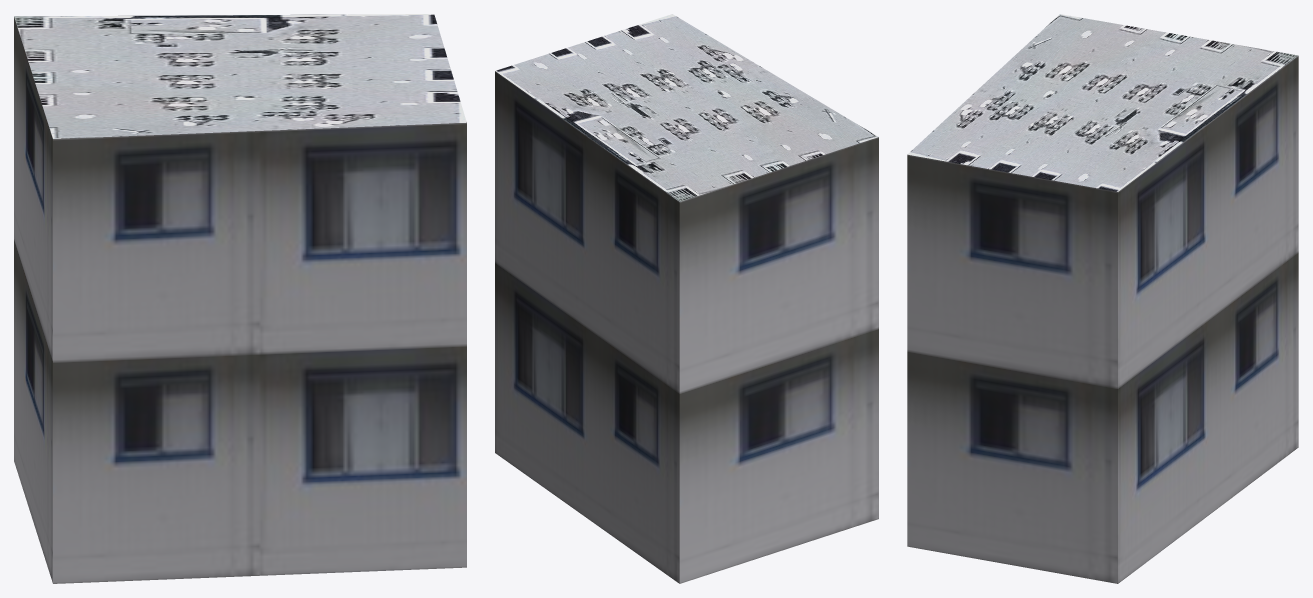
File: ResTex__5020.fbx
3 views of the same model, side by side, from view 1: azimuth 30°, elevation 25°; view 2: azimuth 150°, elevation 25°; view 3: azimuth 270°, elevation 25° (orthographic). The views are drawn at different scales.
Parts seen in each view (by area): view 1: CityEngineMaterial_9_m, CityEngineMaterial_m; view 2: CityEngineMaterial_9_m, CityEngineMaterial_m; view 3: CityEngineMaterial_9_m, CityEngineMaterial_m.
Part boxes in pixels (x1,y1,x2,y2): CityEngineMaterial_9_m: (14, 17, 466, 583); CityEngineMaterial_m: (14, 14, 466, 138); CityEngineMaterial_9_m: (495, 71, 878, 583); CityEngineMaterial_m: (495, 14, 878, 201); CityEngineMaterial_9_m: (907, 56, 1298, 583); CityEngineMaterial_m: (907, 14, 1298, 191).
Bounding box in the file's own units: 5.85 × 6 × 5.43.
Materials: 2 (2 with a texture image).
